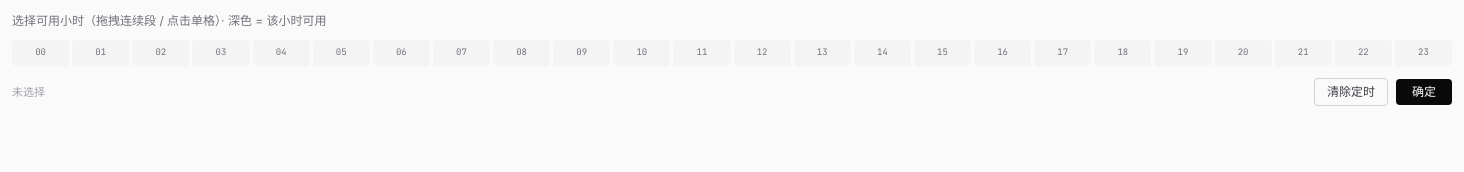
Test: HourGridPicker — 确定校验与回调 › 确定 24 格（全选）→ errFull 显示且不回调
Press the mouse on the cell "00" at (41, 53), box [12,40,69,66]
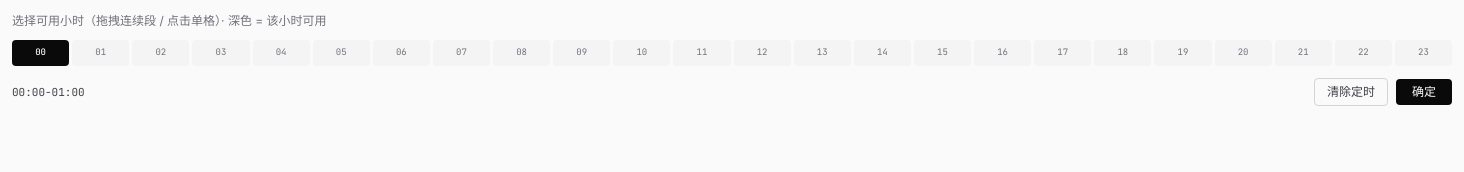
Hover over the cell "23" at (1423, 53), box [1395,40,1452,66]
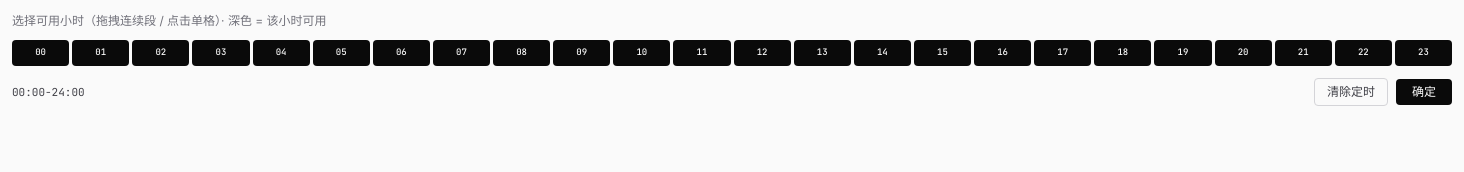
Click the button with test id "hour-grid-confirm" at (1424, 92), box [1396,79,1452,105]
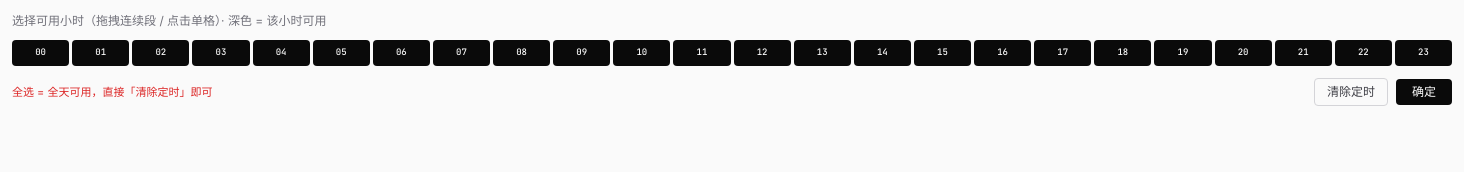
Expected: the text with test id "hour-grid-error" shows "全选", [12,85,212,99]
